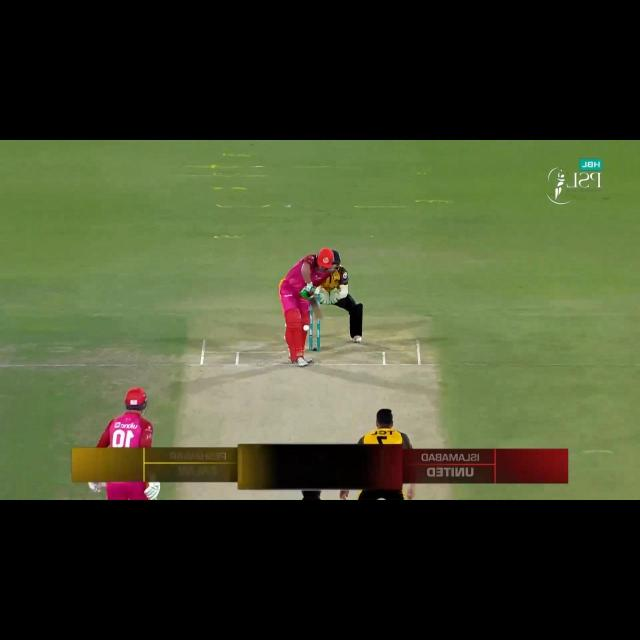bat: (308, 297, 324, 320)
toe: (315, 312, 324, 320)
